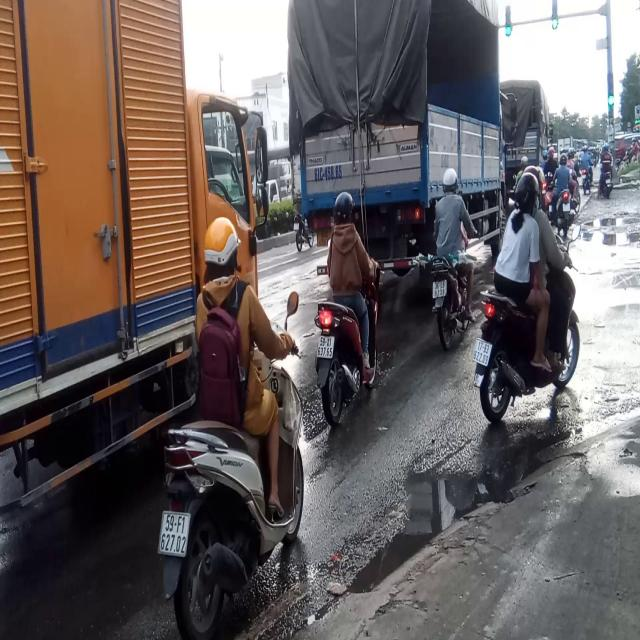bien_trang: (158, 506, 190, 559), (312, 335, 336, 360), (430, 272, 449, 301)
